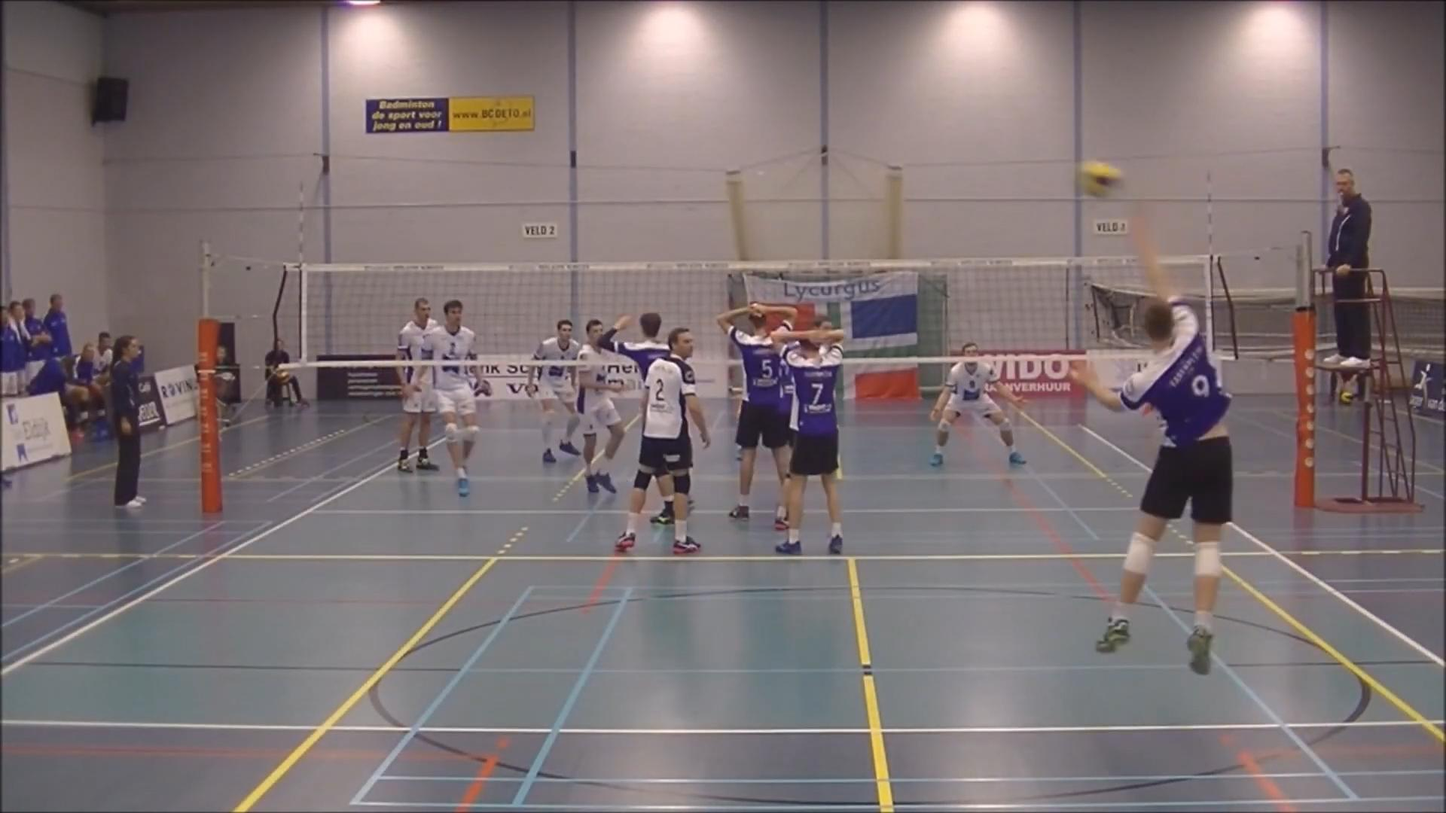battuta: (1058, 227, 1251, 681)
